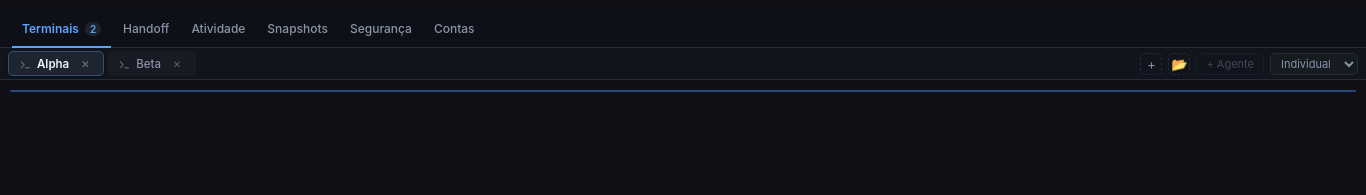
Test: workspace layouts › permite alternar para a aba de Contas do espaço
Click the button "Contas" at {"x": 454, "y": 30}, box [424,12,485,48]
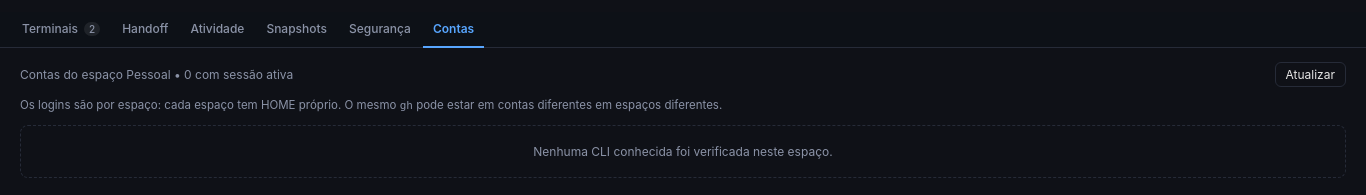
Expected: the element with test id "accounts-scope-hint" is shown, [20,98,722,112]
